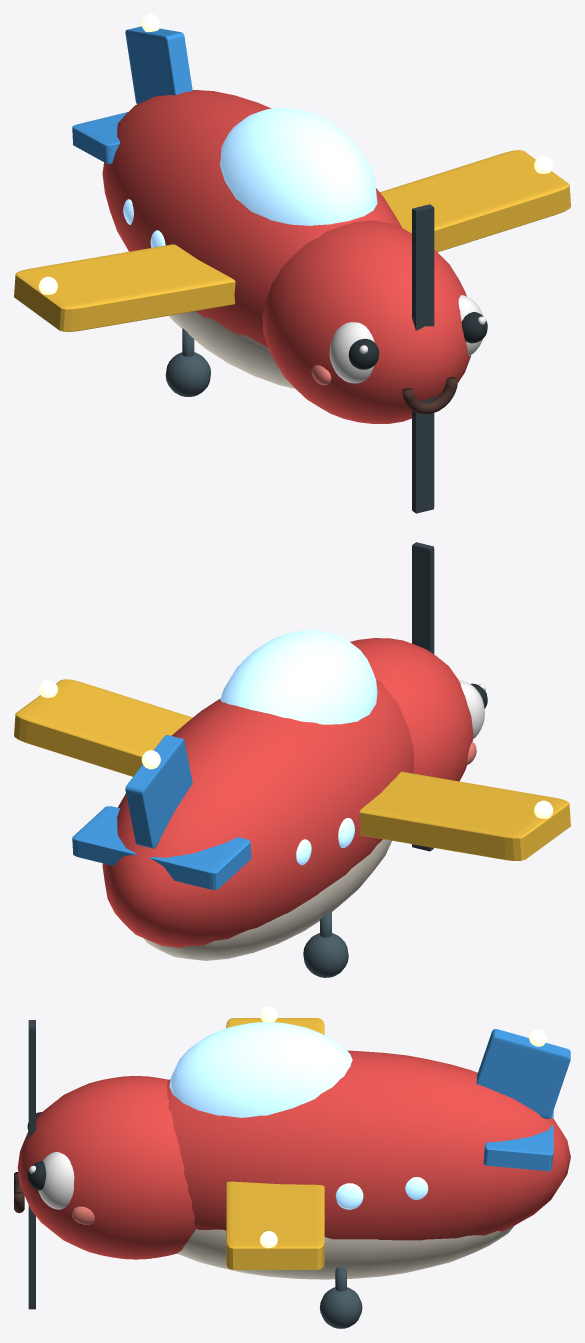
Rendered from aviao.glb.
3 renders of one model, top to bottom at view 1: azimuth 30°, elevation 25°; view 2: azimuth 150°, elevation 25°; view 3: azimuth 270°, elevation 25°, orthographic. The views are drawn at different scales.
Parts seen in each view (by area): view 1: PlaneNose, Fuselage, Canopy, PlaneWingL, PlaneWingR, Fin, Belly, BladeA, BladeB, Tailplane, EyeL, WheelL (+3 smaller); view 2: Fuselage, PlaneWingL, Canopy, PlaneWingR, PlaneNose, Belly, Tailplane, Fin, BladeA, WheelL, EyeL; view 3: Fuselage, PlaneNose, Canopy, PlaneWingR, Belly, Fin, Tailplane, EyeR, WheelR, BladeA, BladeB, PlaneWingL (+2 smaller).
Part boxes in pixels (x1,y1,x2,y2): PlaneNose: [262, 220, 470, 423]; Fuselage: [102, 90, 402, 347]; Canopy: [220, 107, 377, 225]; PlaneWingL: [14, 244, 235, 331]; PlaneWingR: [380, 150, 570, 252]; Fin: [125, 26, 192, 104]; Belly: [169, 311, 295, 388]; BladeA: [412, 204, 434, 330]; BladeB: [412, 396, 434, 513]; Tailplane: [72, 112, 127, 163]; EyeL: [329, 322, 374, 383]; WheelL: [165, 352, 210, 396]; Fuselage: [102, 679, 414, 947]; PlaneWingL: [359, 771, 570, 860]; Canopy: [220, 630, 377, 724]; PlaneWingR: [14, 679, 192, 776]; PlaneNose: [350, 638, 473, 781]; Belly: [143, 839, 391, 960]; Tailplane: [72, 806, 251, 889]; Fin: [125, 735, 192, 848]; BladeA: [412, 542, 434, 654]; WheelL: [303, 933, 348, 977]; EyeL: [458, 680, 484, 738]; Fuselage: [166, 1050, 570, 1240]; PlaneNose: [17, 1076, 195, 1259]; Canopy: [169, 1022, 352, 1117]; PlaneWingR: [226, 1181, 324, 1269]; Belly: [177, 1225, 514, 1279]; Fin: [476, 1029, 570, 1118]; Tailplane: [483, 1111, 553, 1171]; EyeR: [38, 1152, 74, 1209]; WheelR: [319, 1287, 362, 1328]; BladeA: [28, 1020, 35, 1138]; BladeB: [28, 1205, 35, 1309]; PlaneWingL: [226, 1018, 324, 1034].
Size of the model in its own units: 3.35 by 1.89 by 3.39.
